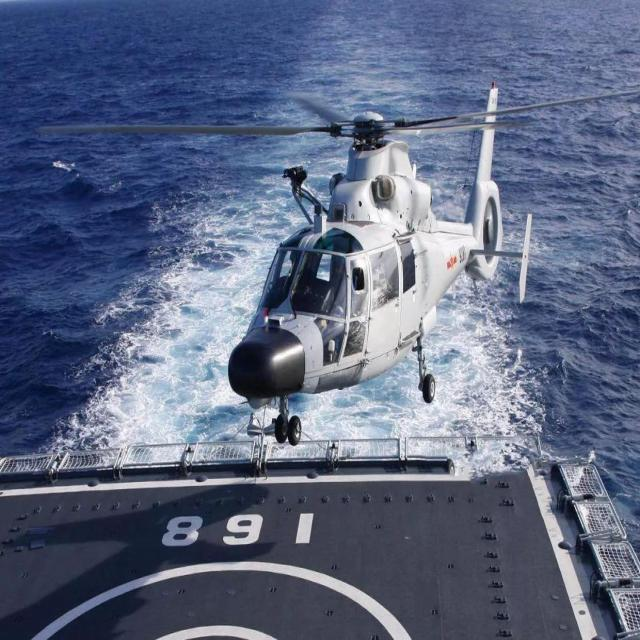MIL_HELO: (34, 80, 640, 455)
